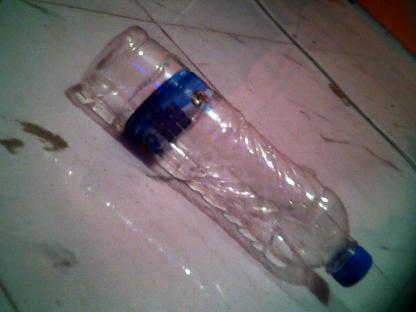Plastic Bottle: (54, 20, 402, 308)
